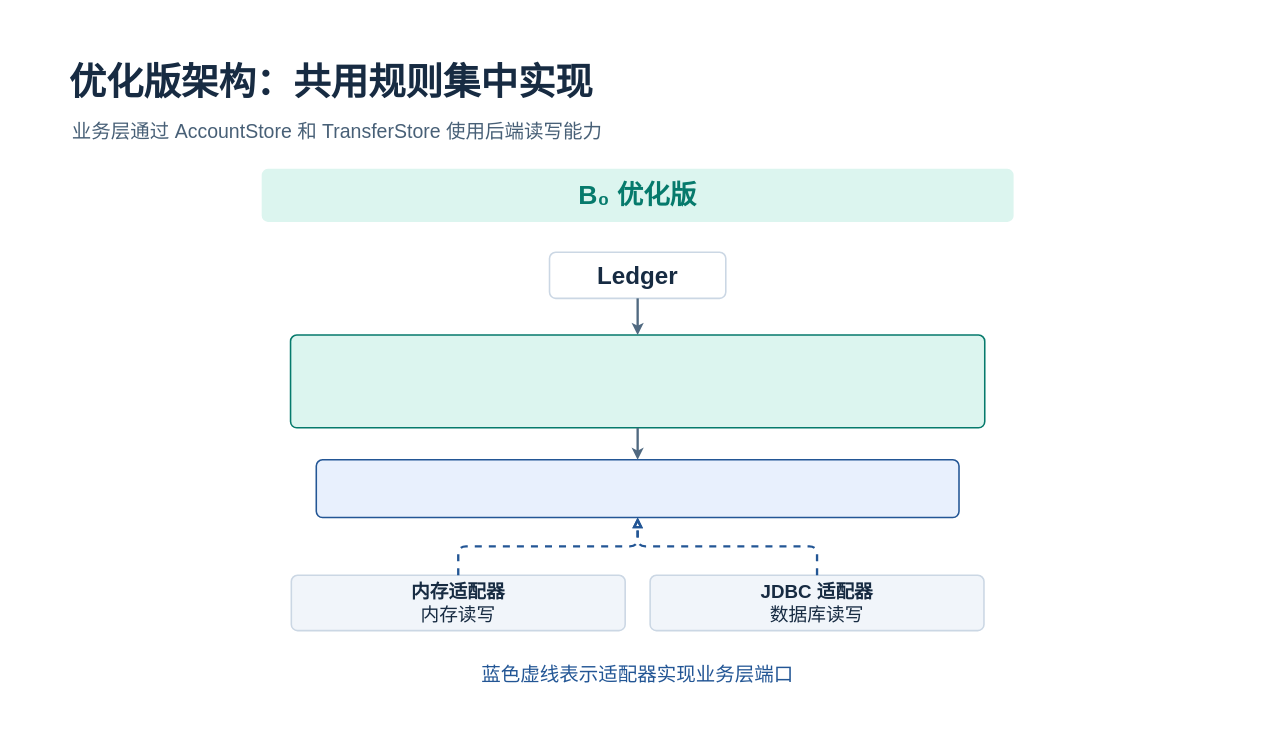
The diagram is 1275 pixels wide and 729 high, and some of its shapes have lost their labels. Each missing label, with the box of its shape:
业务层端口 AccountStore · TransferStore: (315, 459, 959, 518)
共享业务规则 账户规则 · 转账规则 · 会话初始化: (289, 334, 985, 428)
